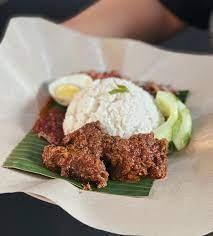Anchovies: (137, 81, 176, 99)
Boiled-Egg: (48, 74, 94, 104)
Cucumber: (153, 91, 193, 151)
Peanuts: (84, 70, 122, 79)
Rice: (63, 78, 165, 139)
